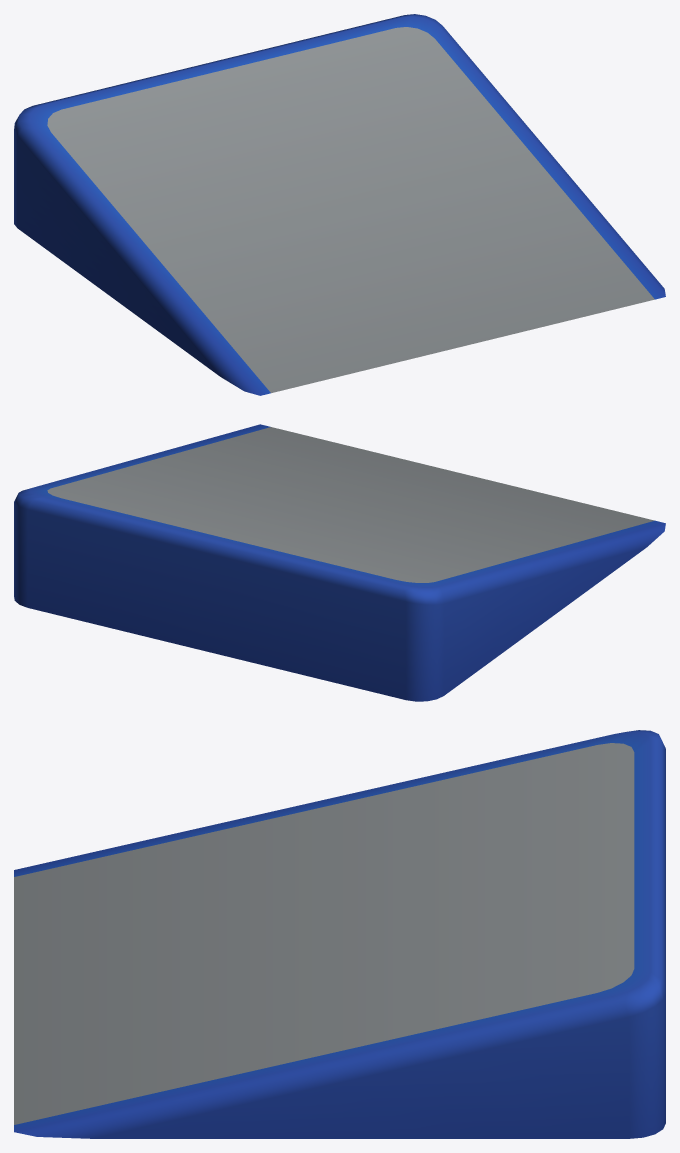
File: Trampoline_02.fbx
The picture shows the model from 3 angles, top to bottom: view 1: azimuth 30°, elevation 25°; view 2: azimuth 150°, elevation 25°; view 3: azimuth 270°, elevation 25°; orthographic projection. The views are drawn at different scales.
Visible parts, largest first — view 1: Trampoline_02; view 2: Trampoline_02; view 3: Trampoline_02.
Boxes of the visible parts, x1,y1,x2,y2 form: Trampoline_02: (14, 14, 665, 395); Trampoline_02: (14, 424, 665, 701); Trampoline_02: (14, 730, 665, 1138).
Size of the model in its own units: 400 by 400 by 97.67.
